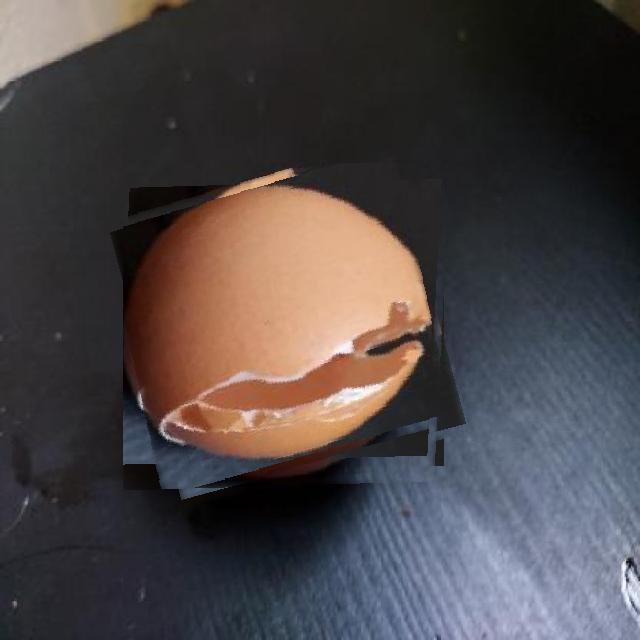biodegradable: (124, 164, 452, 492)
